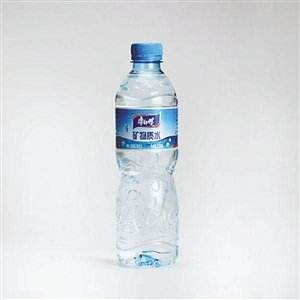amwater: (107, 34, 189, 276)
